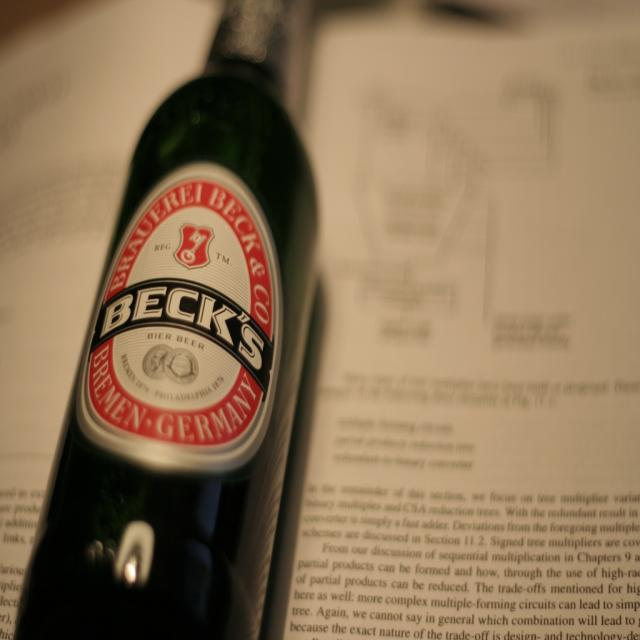becks: (82, 167, 280, 466)
